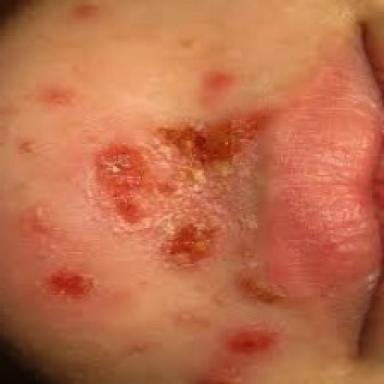Impetigo: (74, 104, 292, 310), (19, 199, 106, 304), (194, 322, 282, 384), (39, 85, 84, 108)
